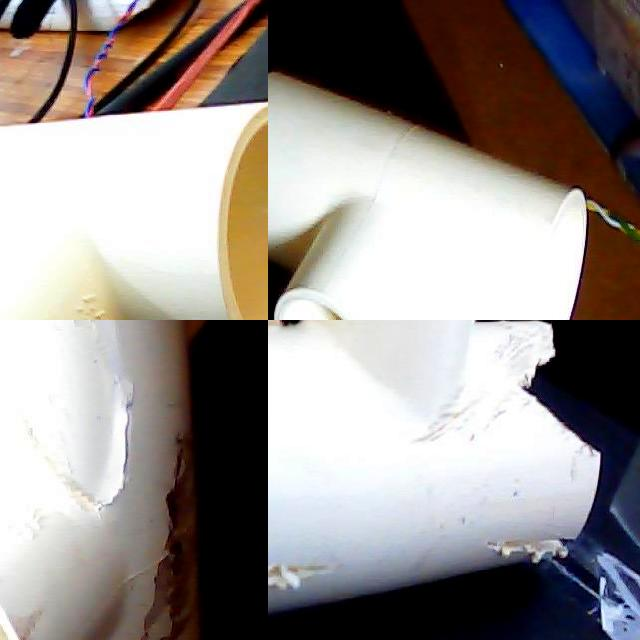Defective: (130, 425, 203, 640), (510, 320, 603, 472), (85, 344, 144, 529), (403, 364, 508, 464), (139, 495, 193, 640), (470, 512, 575, 560), (268, 532, 326, 604), (268, 320, 309, 398), (123, 403, 131, 475), (93, 416, 106, 433)
T Joint: (268, 320, 614, 619), (268, 71, 588, 320), (0, 102, 268, 320)
